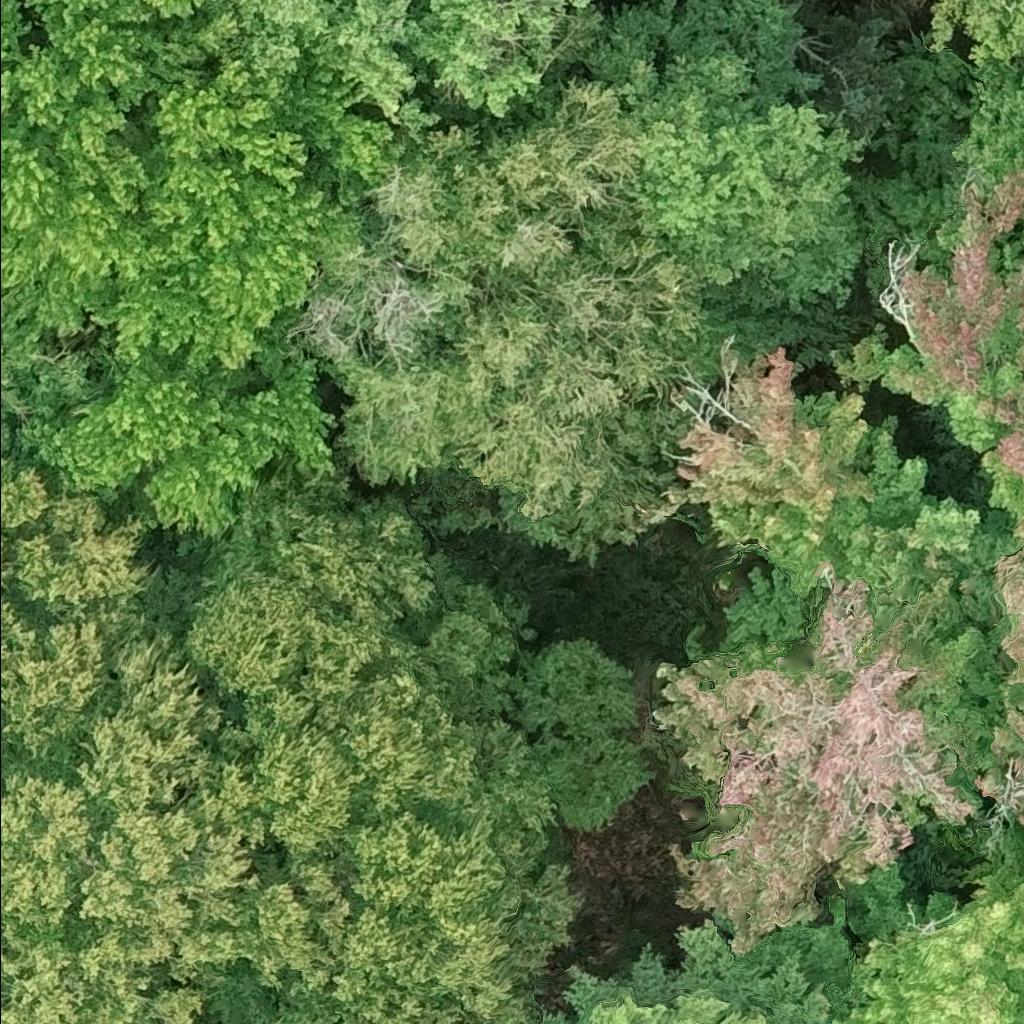crown: (192, 480, 673, 1023), (0, 0, 409, 539), (274, 71, 721, 526), (0, 465, 330, 1023), (641, 348, 1013, 762), (648, 562, 982, 954), (583, 0, 864, 315), (830, 170, 1023, 542), (228, 0, 607, 151), (830, 874, 1023, 1023), (0, 333, 106, 480), (972, 537, 1023, 829), (948, 9, 1023, 195), (584, 982, 779, 1023), (930, 0, 1023, 66), (992, 214, 1023, 280)
